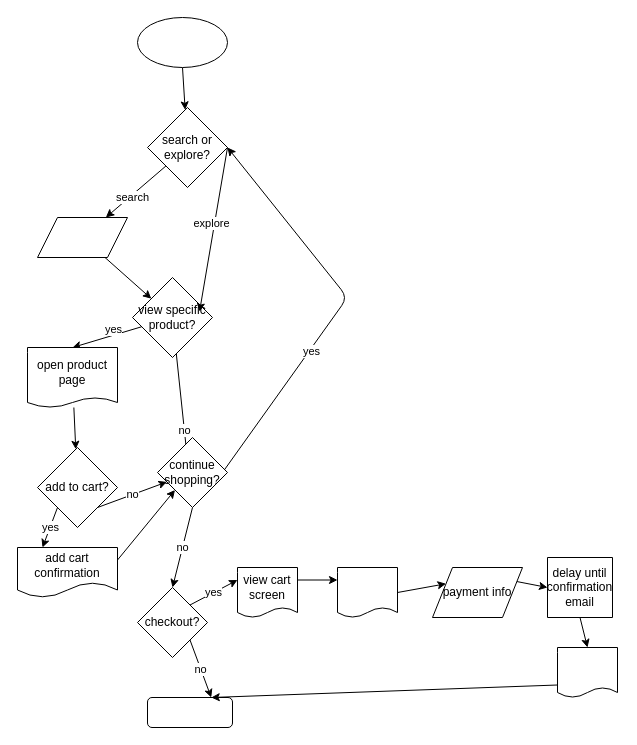
Some shapes in this 637 by 745 pixel diagram are drawn without their labels. The shapes that lost their labels are listed below. From the top down, each one's centre as x and y in pixels, then its label:
(182,42): enter
(82,237): input search
(367,592): view payment
(587,672): confirmation screen
(189,712): leave
